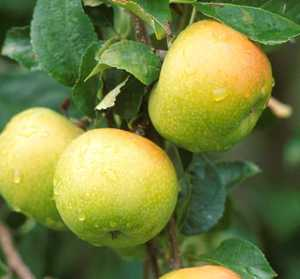apple: (147, 20, 272, 153), (54, 128, 180, 248)
obscured(2)_apple: (1, 106, 95, 233)
